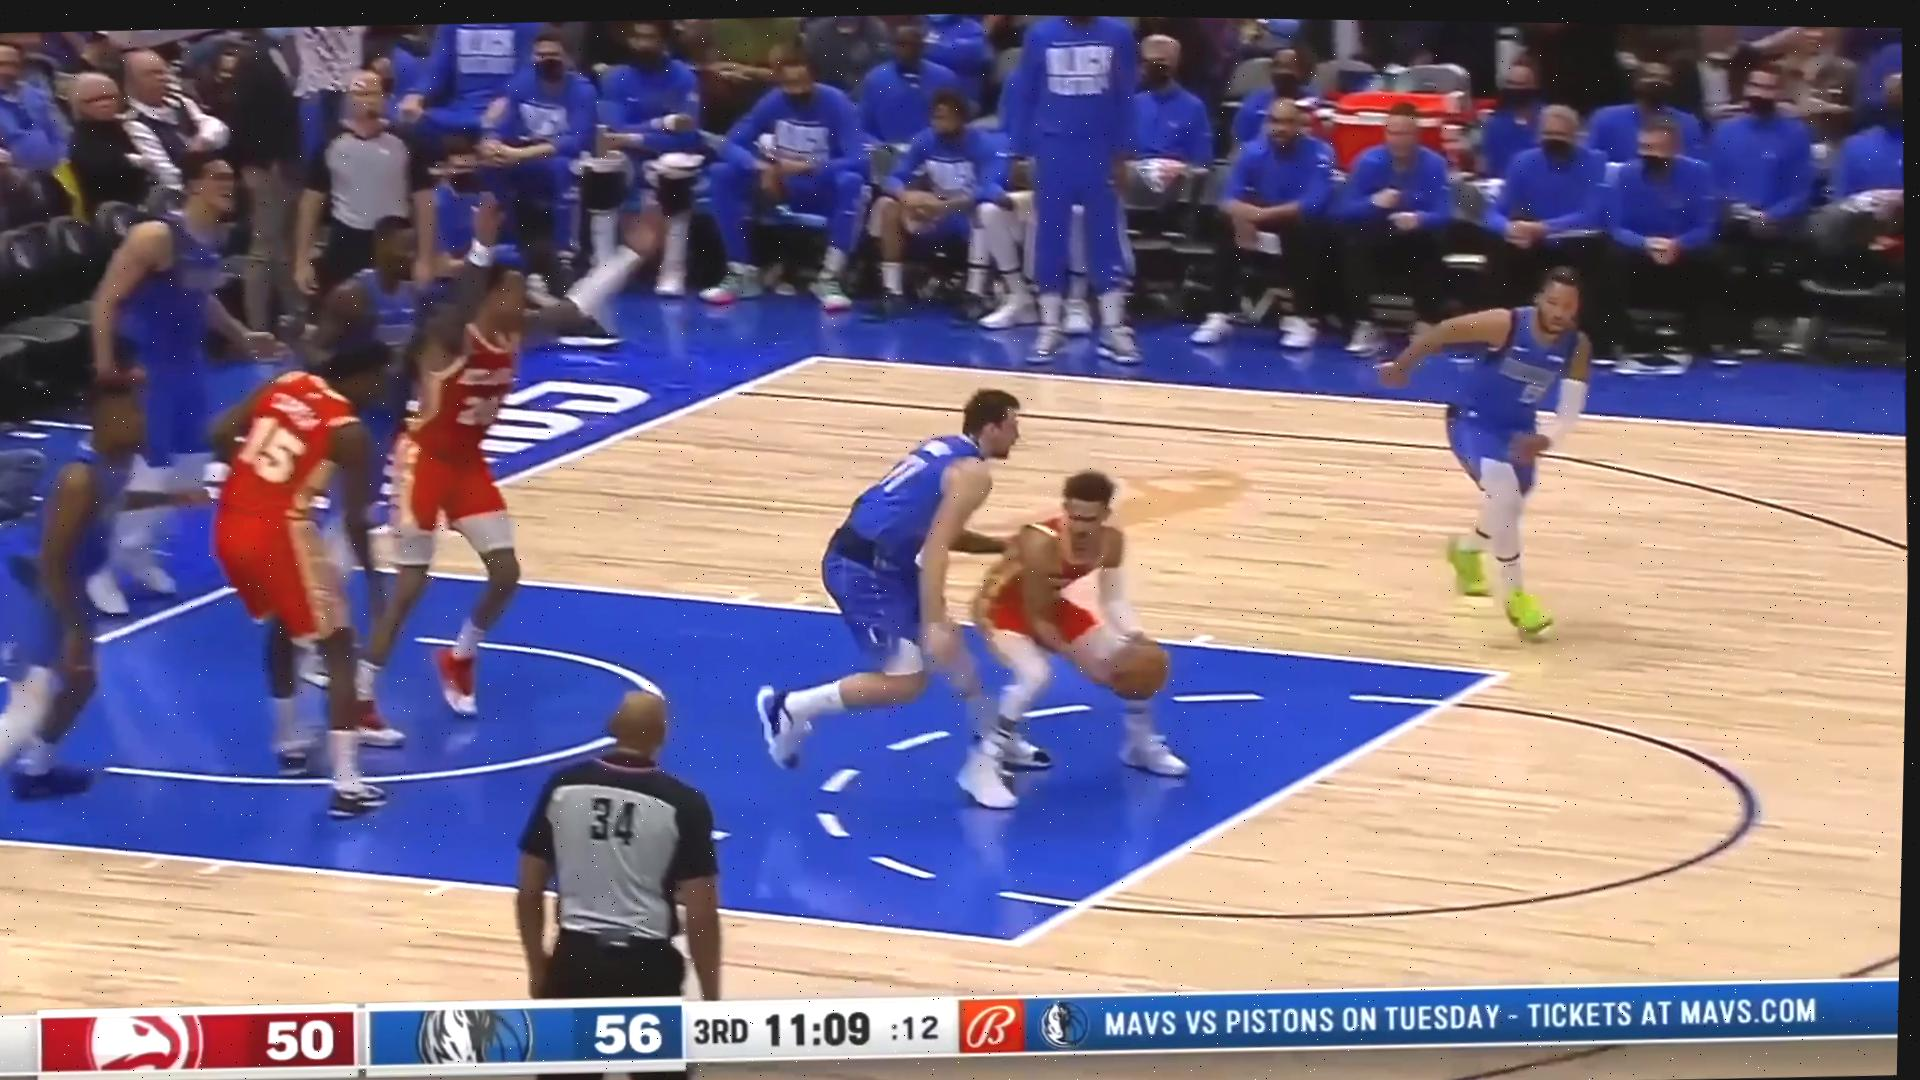no_foul: (741, 373, 1215, 831)
